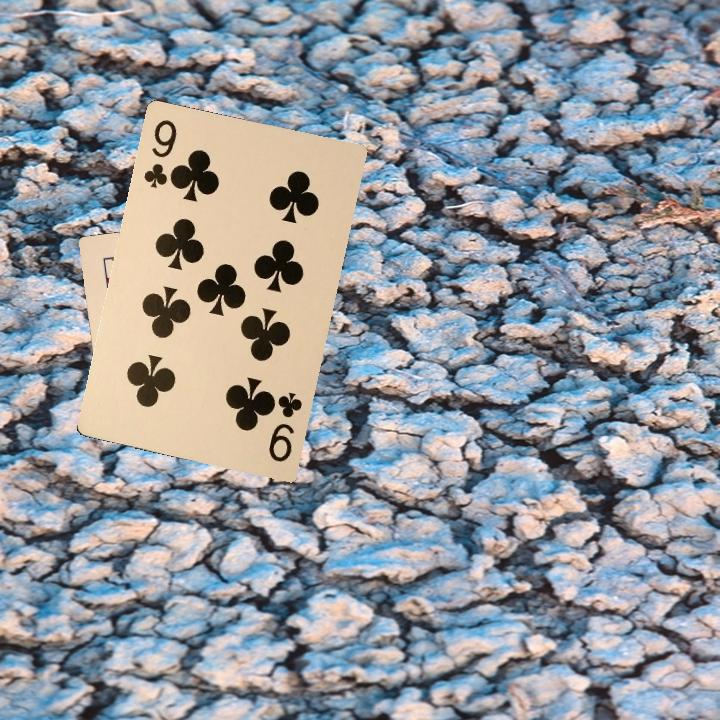9c: (264, 388, 305, 465), (140, 115, 180, 191)
